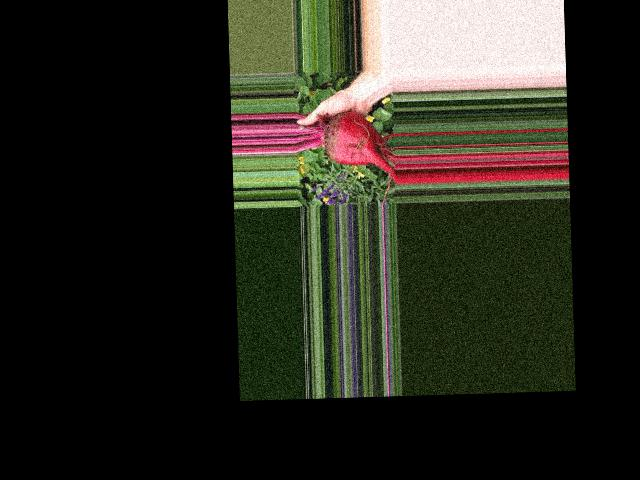beet: (295, 110, 396, 186)
